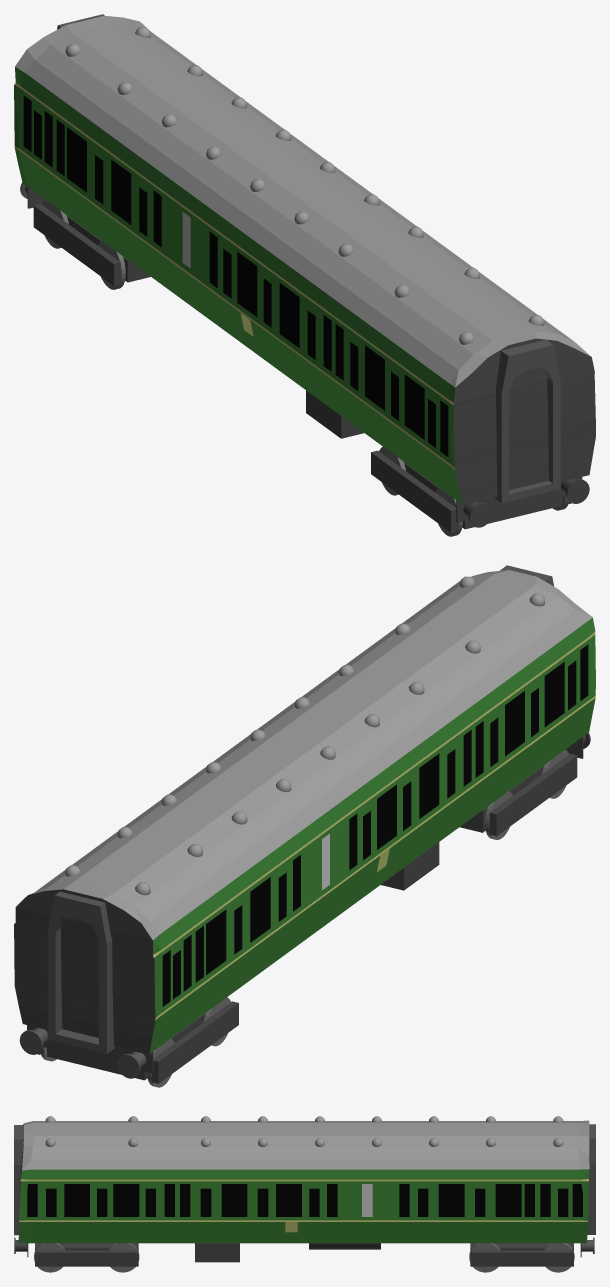
The model's file is br-117-tcl-g-new.dae.
3 views of the same model, one above another, from view 1: azimuth 30°, elevation 25°; view 2: azimuth 150°, elevation 25°; view 3: azimuth 270°, elevation 25° (orthographic). The views are drawn at different scales.
Visible parts, largest first — view 1: Plane_002, Tube_002, Cube_004, Cube_001, Cube_012, Plane_038, Plane_048, Plane_001, Plane_003, Plane_037, Plane_053, Cube_002 (+1 smaller); view 2: Plane_002, Tube_002_001, Cube_001, Cube_004, Cube_012, Plane_037, Plane_038, Plane_048, Plane_001, Cube_009, Plane_053, Plane_003 (+1 smaller); view 3: Plane_002, Cube, Cube_005, Cube_012, Plane_013, Plane_025, Plane_027, Plane_023, Plane_030, Plane_004, Tube_002_001, Tube_002 (+25 smaller).
Boxes of the visible parts, bbox=[...] form: Plane_002: bbox=[14, 15, 595, 504]; Tube_002: bbox=[494, 339, 560, 503]; Cube_004: bbox=[33, 203, 120, 285]; Cube_001: bbox=[371, 450, 457, 532]; Cube_012: bbox=[306, 390, 363, 438]; Plane_038: bbox=[111, 159, 131, 224]; Plane_048: bbox=[279, 283, 299, 347]; Plane_001: bbox=[404, 374, 424, 439]; Plane_003: bbox=[237, 252, 257, 316]; Plane_037: bbox=[67, 127, 86, 192]; Plane_053: bbox=[365, 345, 384, 410]; Cube_002: bbox=[404, 462, 562, 529]; Plane_002: bbox=[14, 570, 595, 1054]; Tube_002_001: bbox=[47, 891, 114, 1053]; Cube_001: bbox=[489, 754, 577, 836]; Cube_004: bbox=[151, 1001, 238, 1083]; Cube_012: bbox=[381, 842, 439, 890]; Plane_037: bbox=[206, 909, 226, 974]; Plane_038: bbox=[250, 877, 270, 942]; Plane_048: bbox=[419, 753, 439, 818]; Plane_001: bbox=[544, 662, 564, 726]; Cube_009: bbox=[27, 1025, 153, 1073]; Plane_053: bbox=[505, 691, 524, 756]; Plane_003: bbox=[377, 784, 396, 849]; Plane_002: bbox=[18, 1120, 589, 1243]; Cube: bbox=[35, 1250, 138, 1266]; Cube_005: bbox=[470, 1250, 573, 1266]; Cube_012: bbox=[195, 1243, 239, 1262]; Plane_013: bbox=[221, 1184, 247, 1216]; Plane_025: bbox=[438, 1184, 464, 1216]; Plane_027: bbox=[495, 1184, 521, 1216]; Plane_023: bbox=[113, 1184, 139, 1216]; Plane_030: bbox=[64, 1184, 89, 1216]; Plane_004: bbox=[276, 1184, 301, 1216]; Tube_002_001: bbox=[587, 1124, 595, 1234]; Tube_002: bbox=[14, 1125, 23, 1235].
Size of the model in its own units: 2.02 by 11.23 by 2.71.
